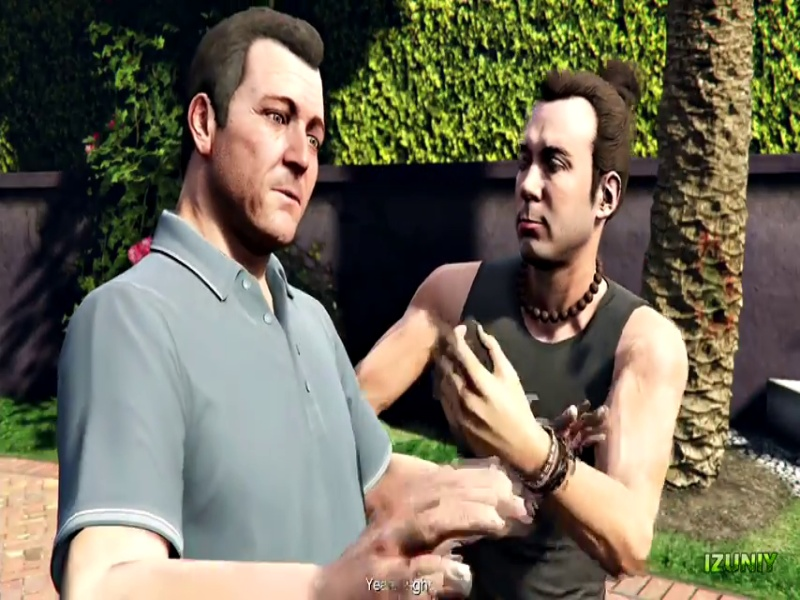human: (108, 31, 677, 588)
